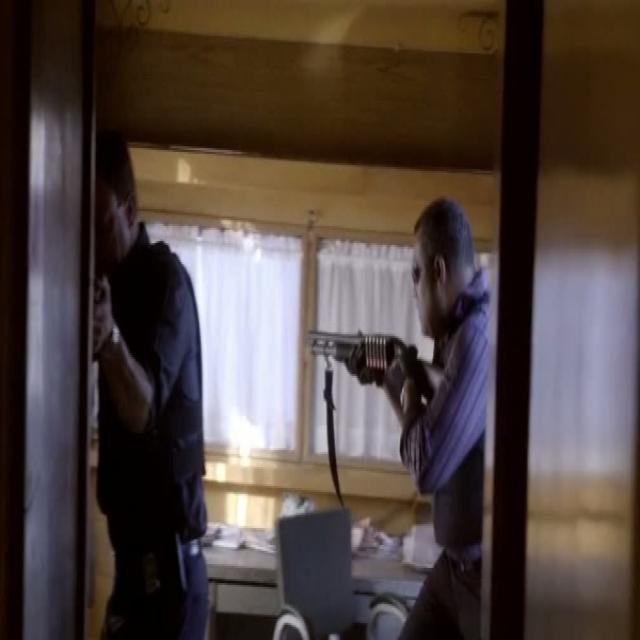rifle: (308, 319, 443, 401)
